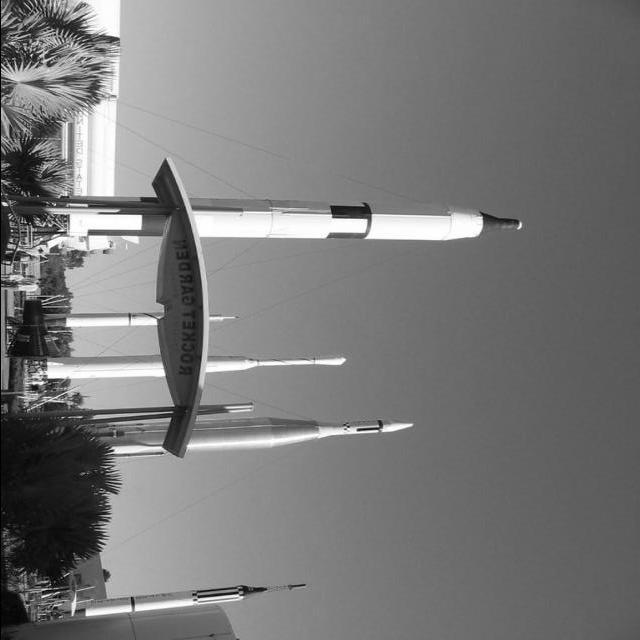missile: (60, 198, 525, 246), (45, 416, 415, 460), (70, 577, 274, 619), (49, 353, 348, 377), (51, 314, 232, 324)
